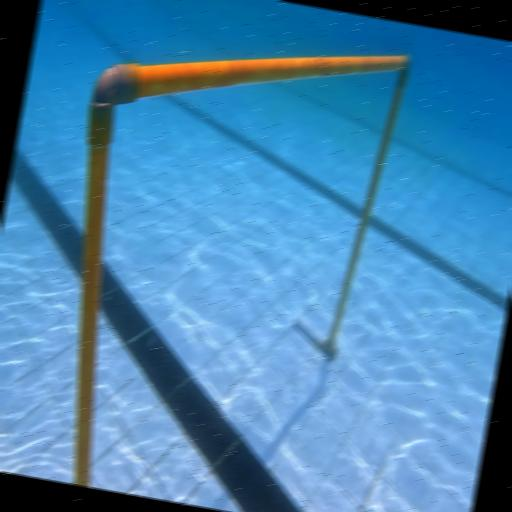gate: (23, 0, 412, 512)
